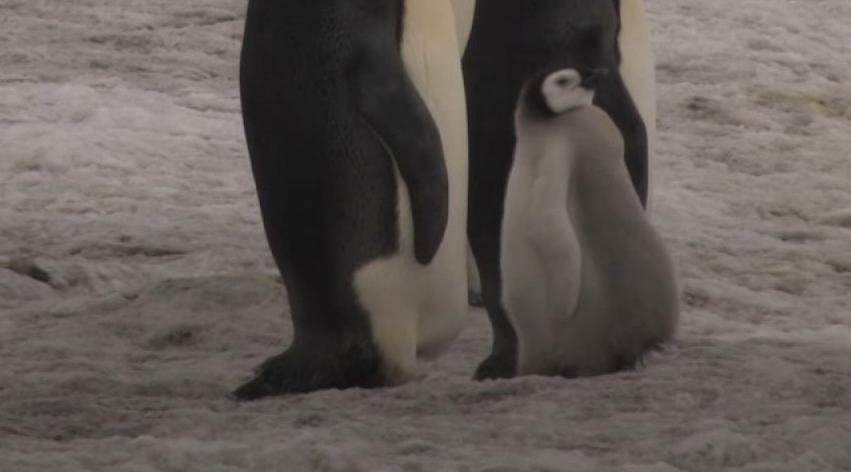Emperor Penguin: (237, 0, 472, 394), (496, 41, 695, 383), (480, 0, 684, 36)
